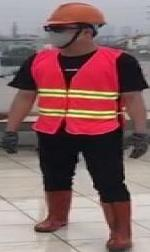boots: (94, 197, 135, 249), (32, 187, 73, 236)
gloves: (128, 132, 149, 159), (0, 131, 18, 153)
hard-hat: (43, 2, 107, 33)
vest: (31, 45, 122, 135)
